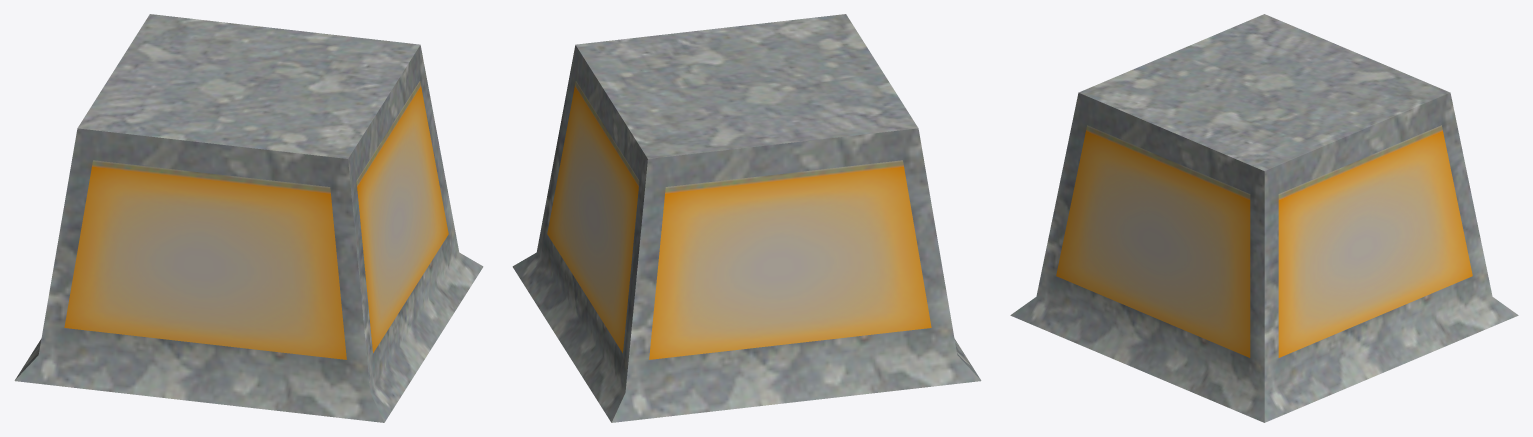
File: Light-GroundLamp.fbx
3 views of the same model, side by side, from view 1: azimuth 30°, elevation 25°; view 2: azimuth 150°, elevation 25°; view 3: azimuth 270°, elevation 25° (orthographic). The views are drawn at different scales.
Parts seen in each view (by area): view 1: Light-GroundLamp; view 2: Light-GroundLamp; view 3: Light-GroundLamp.
Boxes of the visible parts, left/top/right/bottom form: Light-GroundLamp: left=14, top=14, right=483, bottom=422; Light-GroundLamp: left=512, top=14, right=981, bottom=422; Light-GroundLamp: left=1010, top=14, right=1518, bottom=422.
Bounding box in the file's own units: 40.48 × 19.56 × 40.48.
